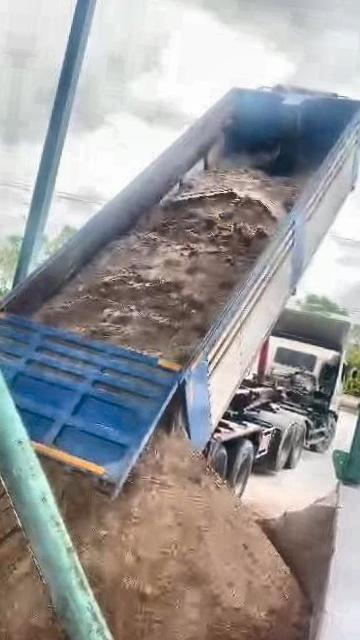sand: (46, 437, 305, 640), (35, 168, 305, 361), (0, 439, 74, 640), (248, 494, 335, 617), (157, 388, 188, 434)
